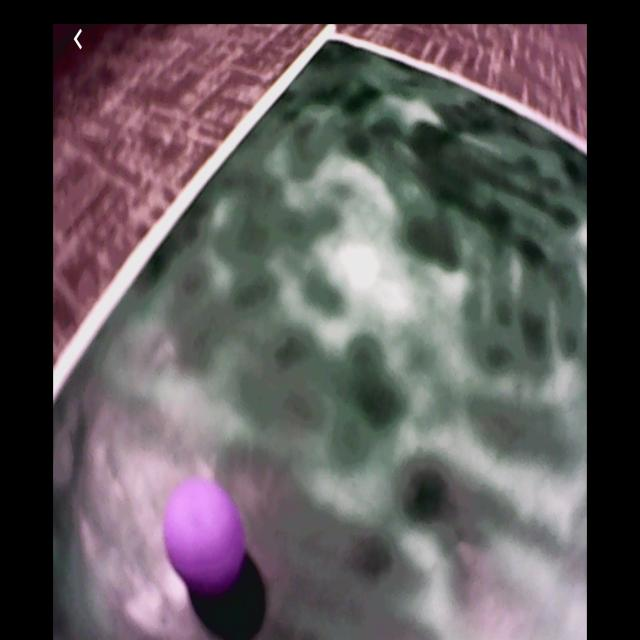ball: (167, 477, 244, 592)
